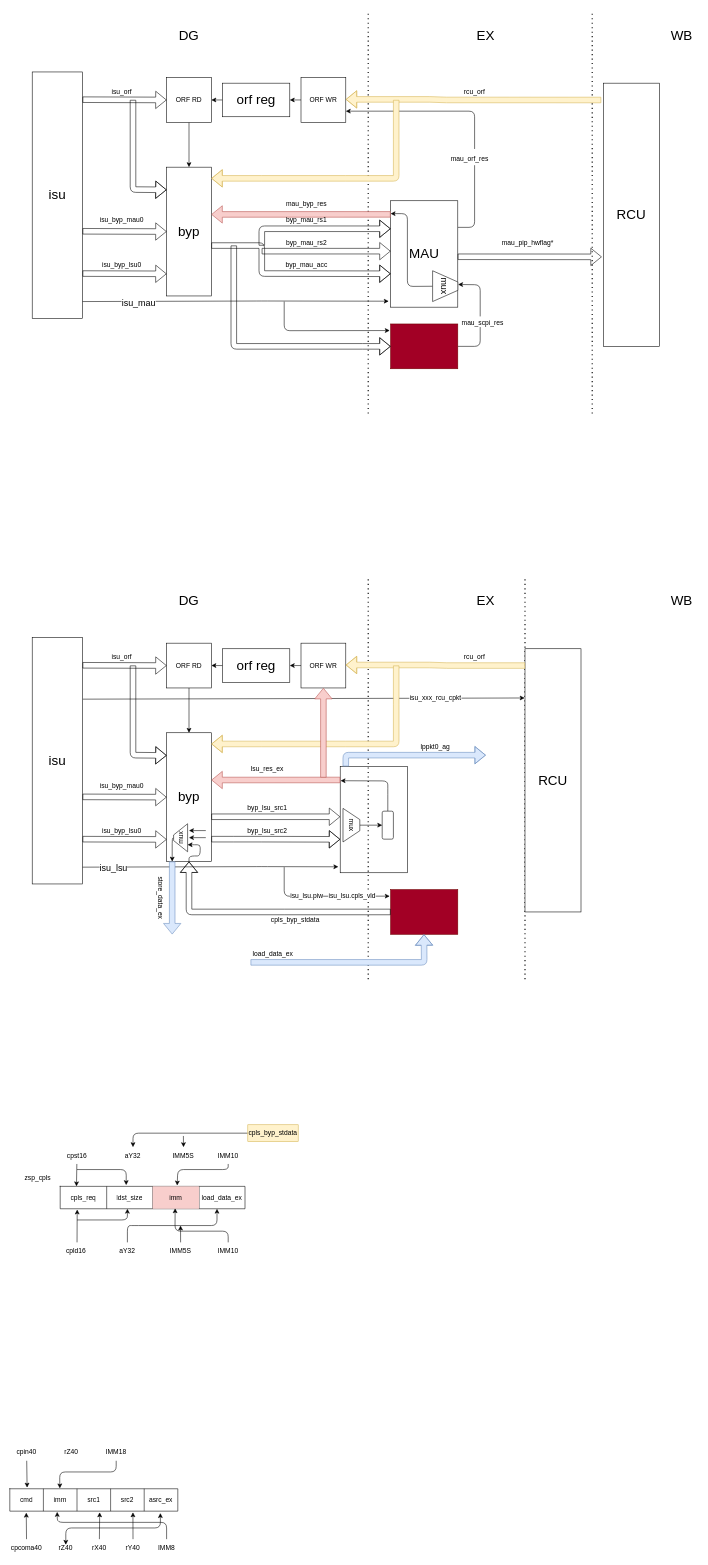
Some shapes in this 708 by 1565 pixel diagram are drawn without their labels. Each missing label, with the box of its shape:
cop_conn: (390, 323, 458, 369)
cpls_conn: (390, 889, 458, 934)
EDFFR: (382, 811, 393, 839)
